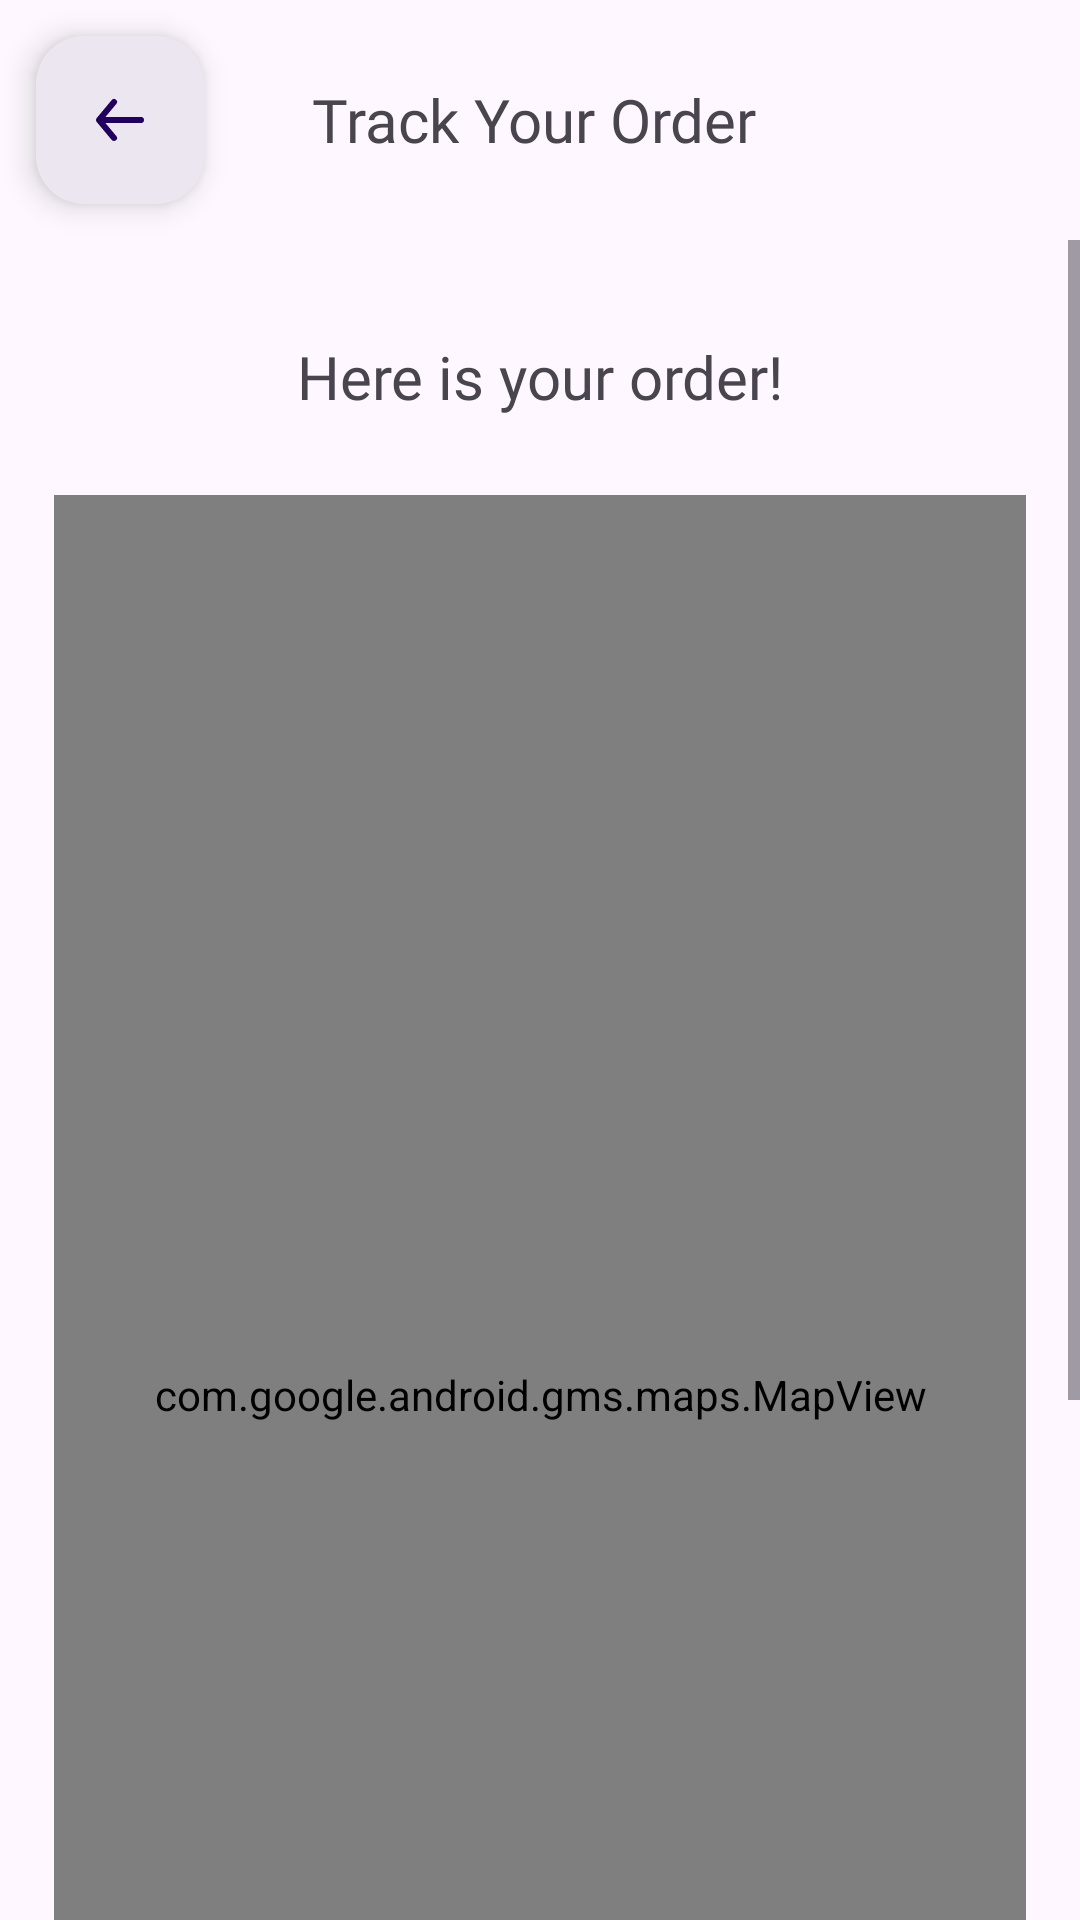

Icon click points for this 1080w x 1920h phone screenshot, format point (x, y):
back arrow: point (120, 120)
